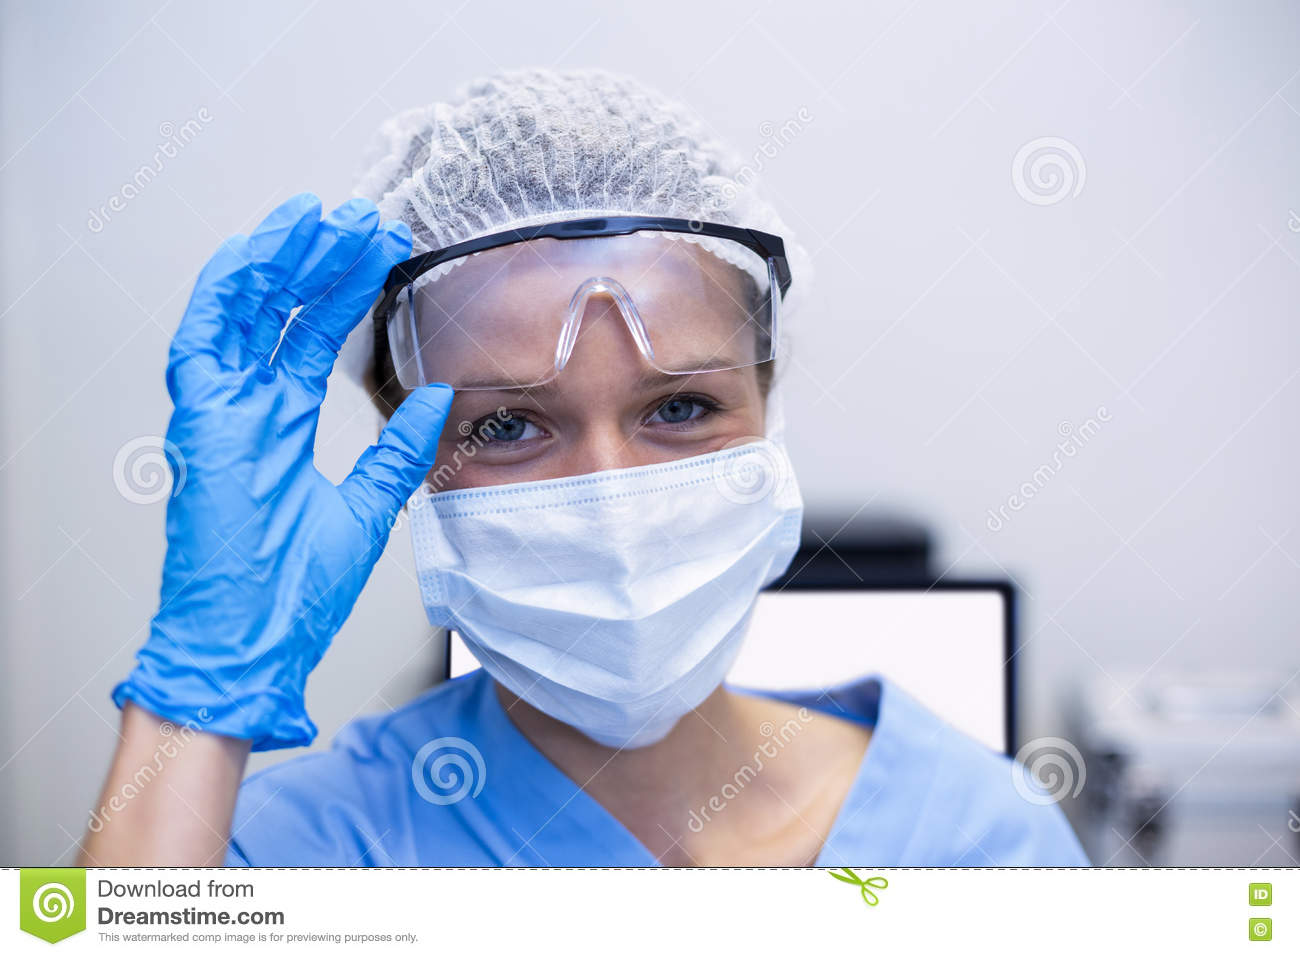mask: (411, 443, 815, 755)
